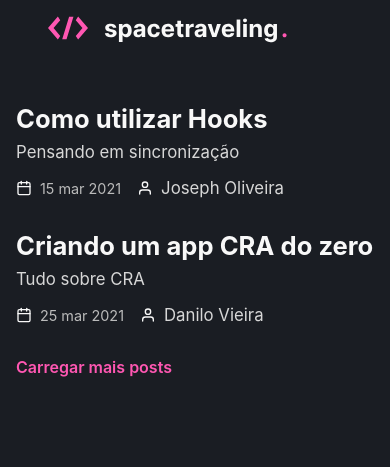
Home › loads the next page from the API and hides the button at the end
This screenshot has width=390, height=467.
Click the button "Carregar mais posts". click: [94, 367]
box: [16, 357, 172, 377]
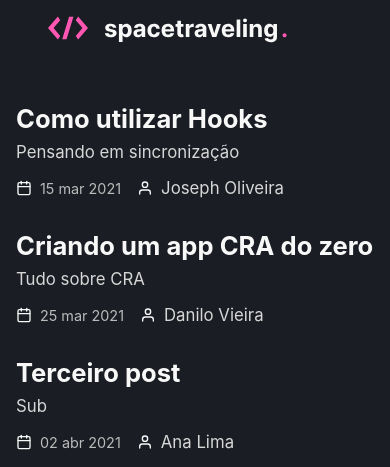
Result: the heading "Terceiro post" is shown at [16, 357, 180, 388]
Result: the button "Carregar mais posts" is gone
